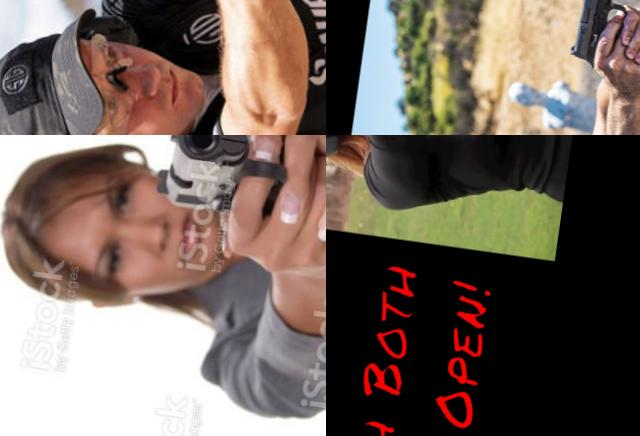handgun: (130, 0, 325, 97), (148, 135, 312, 228), (565, 0, 640, 73), (326, 135, 365, 149)
